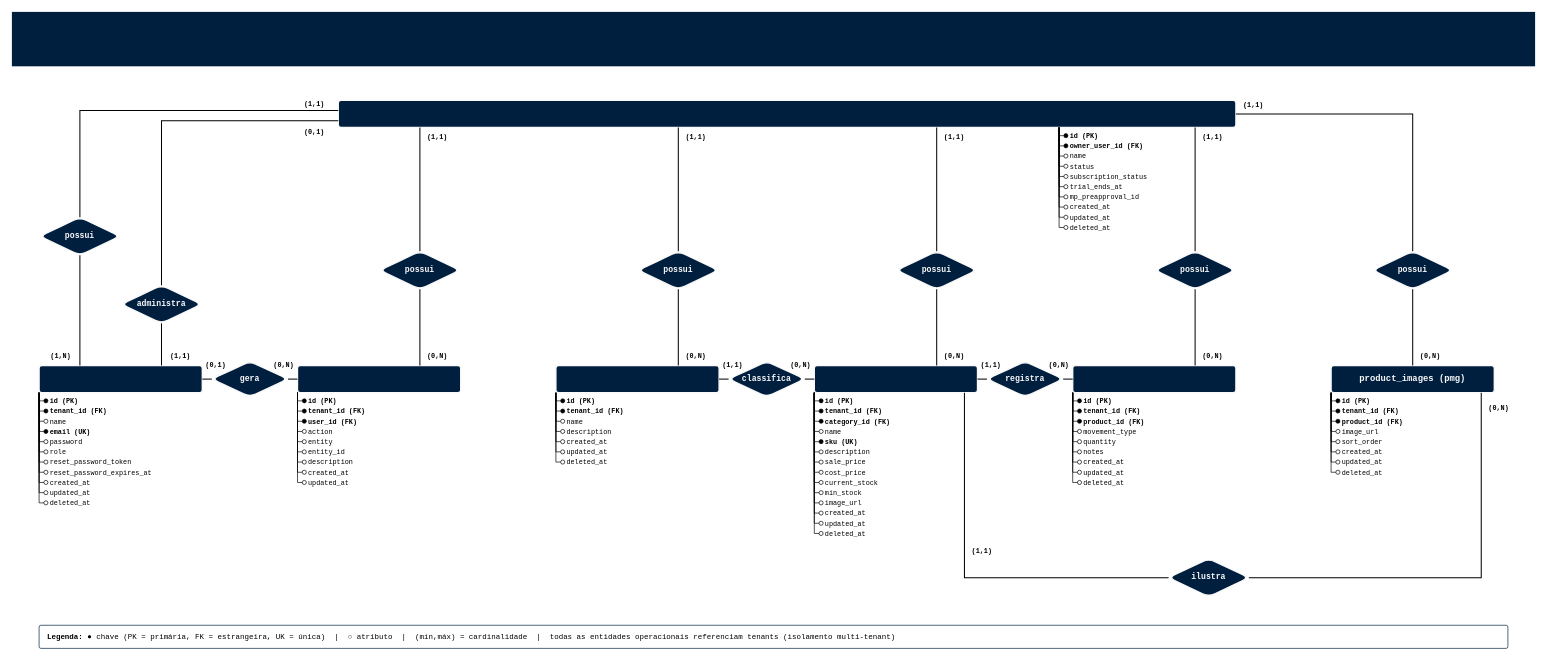
Some shapes in this 1546 by 660 pixel diagram are drawn without their labels. The centre of each missing label's shape, as x and y in pixels:
"audit_logs (aud)" belongs at (x=378, y=378).
"categories (cat)" belongs at (x=637, y=378).
"Diagrama Entidade-Relacionamento - StockPro (DER)" belongs at (x=773, y=39).
"products (pro)" belongs at (x=895, y=378).
"stock_movements (mov)" belongs at (x=1154, y=378).
"tenants (ten)" belongs at (x=786, y=113).
"users (usr)" belongs at (x=120, y=378).
